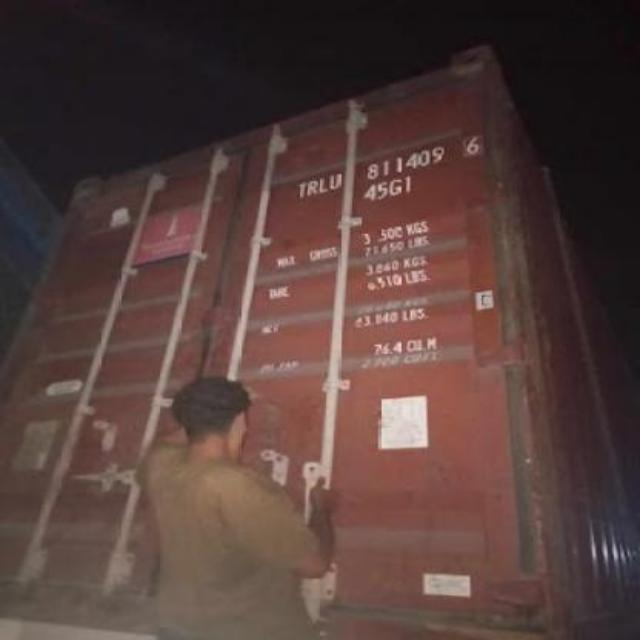0: (418, 148, 432, 168)
1: (396, 154, 404, 174), (382, 159, 390, 177)
4: (404, 152, 418, 168)
6: (466, 136, 479, 156)
8: (368, 163, 382, 181)
9: (432, 146, 446, 162)
L: (316, 176, 328, 194)
R: (306, 180, 320, 194)
T: (294, 182, 308, 196)
U: (328, 174, 344, 188)
